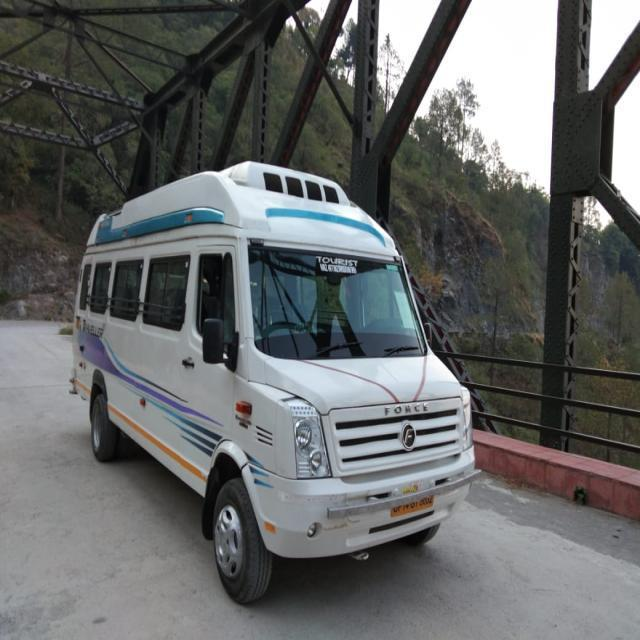Ambulance: (0, 316, 638, 638), (66, 158, 483, 608)
